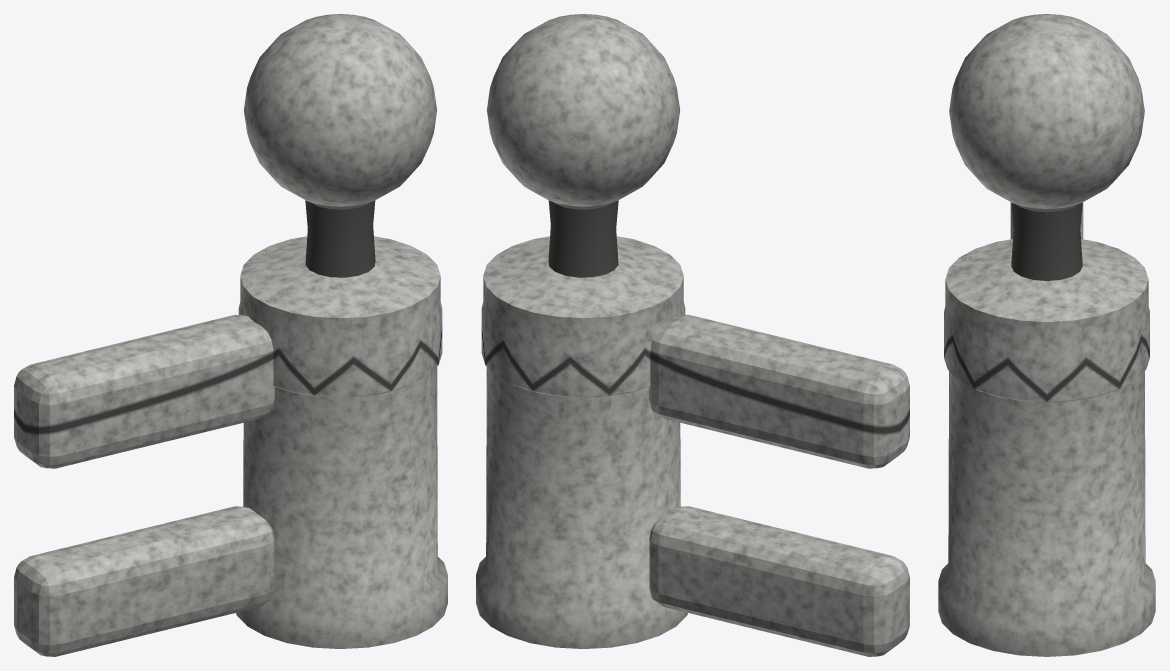
The model's file is balustrade_end_e_hd.glb.
3 views of the same model, side by side, from view 1: azimuth 30°, elevation 25°; view 2: azimuth 150°, elevation 25°; view 3: azimuth 270°, elevation 25° (orthographic).
Parts seen in each view (by area): view 1: balustrade_end_e; view 2: balustrade_end_e; view 3: balustrade_end_e.
Part boxes in pixels (x1,y1,x2,y2): balustrade_end_e: (14,14,447,656); balustrade_end_e: (476,14,909,656); balustrade_end_e: (938,14,1155,656).
Bounding box in the file's own units: 0.66 × 0.895 × 0.3.
1 material, 1 textured.
